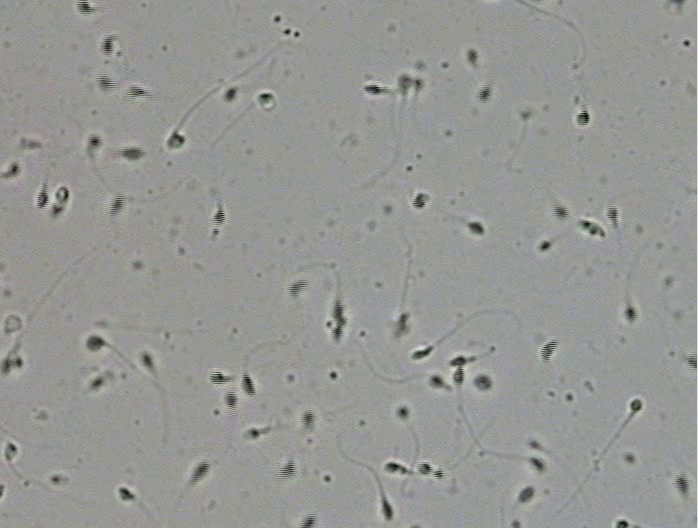S: (331, 301, 348, 341), (576, 220, 606, 238), (240, 373, 257, 397), (191, 462, 209, 483), (540, 341, 557, 361), (278, 461, 296, 479), (288, 280, 308, 296), (125, 85, 147, 99), (97, 75, 116, 91), (167, 132, 185, 148), (109, 196, 124, 215), (86, 335, 105, 350), (411, 347, 432, 360), (396, 313, 409, 334), (674, 476, 689, 494), (473, 376, 492, 390), (121, 148, 143, 160), (118, 487, 135, 502), (519, 486, 534, 503), (552, 204, 569, 219), (75, 1, 93, 15), (381, 499, 393, 520), (55, 186, 69, 204), (101, 36, 114, 55), (212, 208, 226, 225), (209, 371, 227, 384), (4, 442, 17, 460), (412, 193, 427, 208), (576, 110, 590, 126), (224, 391, 237, 408), (299, 515, 316, 528), (477, 87, 491, 102), (417, 462, 433, 475), (452, 367, 464, 384), (607, 206, 619, 223), (448, 356, 468, 366), (37, 191, 48, 209), (398, 75, 411, 90), (623, 307, 636, 322), (302, 410, 314, 426), (468, 222, 484, 234), (362, 85, 381, 95), (7, 163, 21, 176), (530, 456, 544, 469), (687, 352, 697, 369), (141, 353, 153, 367), (429, 375, 443, 387), (466, 49, 478, 63), (244, 429, 259, 440), (630, 399, 642, 412), (225, 87, 236, 101), (384, 463, 399, 473), (413, 77, 423, 92), (11, 356, 23, 368), (1, 358, 10, 374), (88, 137, 101, 148), (90, 378, 103, 389), (50, 206, 64, 216), (258, 93, 273, 102), (538, 241, 551, 251), (396, 407, 408, 417), (616, 520, 629, 528), (528, 440, 539, 448), (1, 484, 4, 498)
